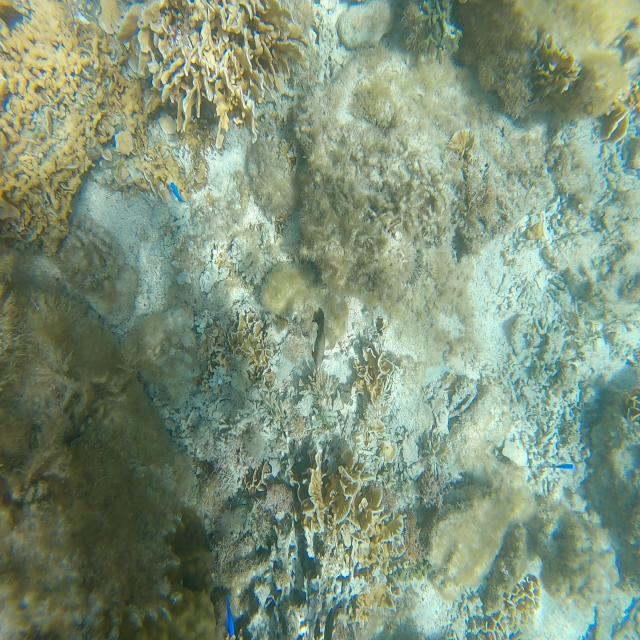kurohagi: (313, 308, 325, 366)
rurisuzumedai: (228, 595, 235, 638), (170, 182, 184, 202), (557, 463, 574, 470)
